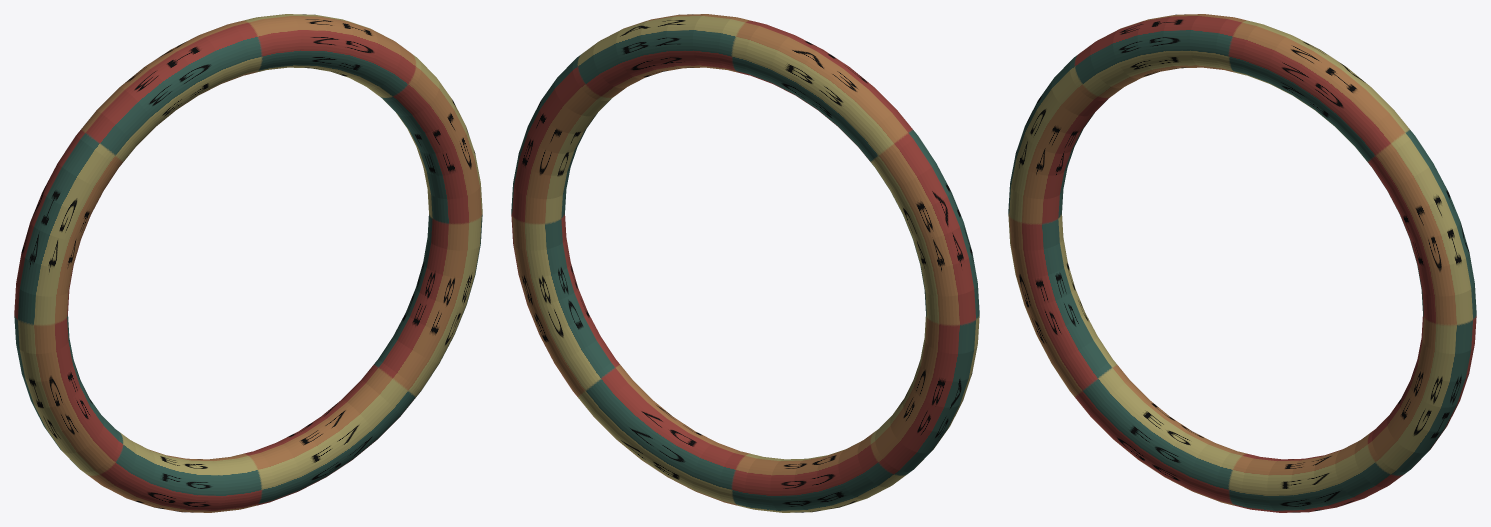
File: texture_torus_R26_r4.glb
3 views of the same model, side by side, from view 1: azimuth 30°, elevation 25°; view 2: azimuth 150°, elevation 25°; view 3: azimuth 330°, elevation 25° (orthographic).
Parts seen in each view (by area): view 1: world; view 2: world; view 3: world.
Boxes of the visible parts, bbox=[...] form: world: bbox=[14, 14, 482, 512]; world: bbox=[511, 14, 979, 512]; world: bbox=[1008, 14, 1476, 512].
Size of the model in its own units: 30.4 by 30.34 by 3.06.
Materials: 1 (1 with a texture image).
